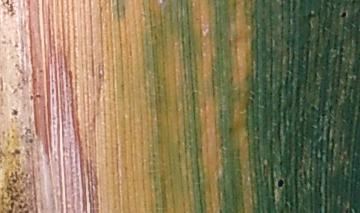tarspot: (275, 174, 287, 193), (338, 9, 350, 19)
